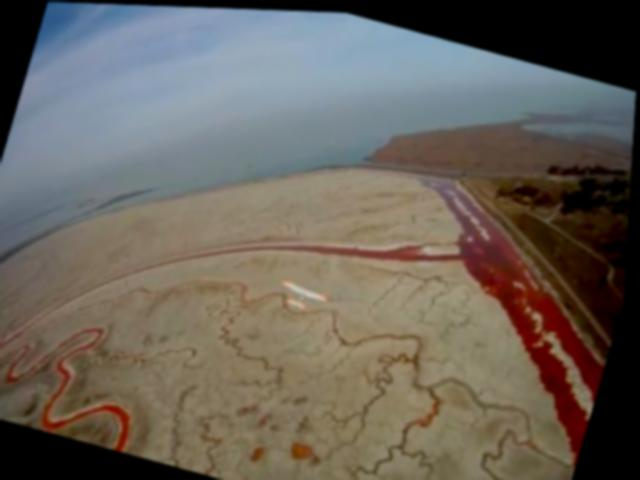uav: (270, 266, 343, 322)
